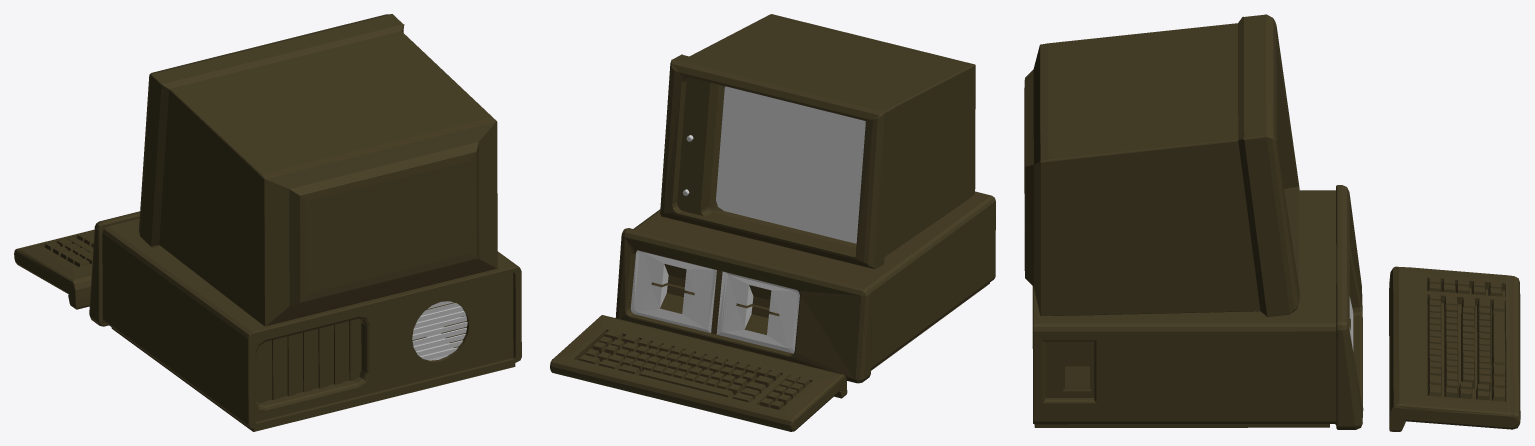
Rendered from ibm.obj.
The picture shows the model from 3 angles, left to right: view 1: azimuth 30°, elevation 25°; view 2: azimuth 150°, elevation 25°; view 3: azimuth 270°, elevation 25°; orthographic projection. The views are drawn at different scales.
Parts seen in each view (by area): view 1: computor_:FullComputer; view 2: computor_:FullComputer; view 3: computor_:FullComputer.
Boxes of the visible parts, box(x1,y1,x2,y2) form: computor_:FullComputer: box(14, 14, 521, 431); computor_:FullComputer: box(550, 14, 995, 431); computor_:FullComputer: box(1024, 14, 1520, 431).
Bounding box in the file's own units: 0.6845 × 0.643 × 1.
